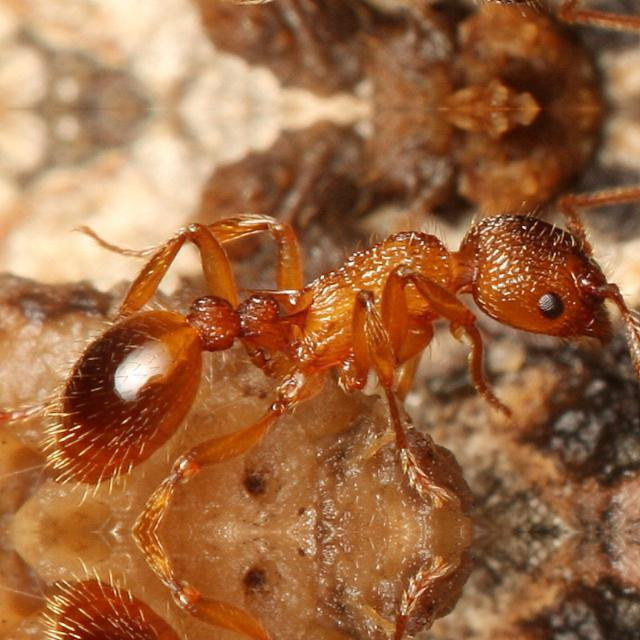Myrmica: (60, 192, 634, 493), (59, 568, 634, 640)
